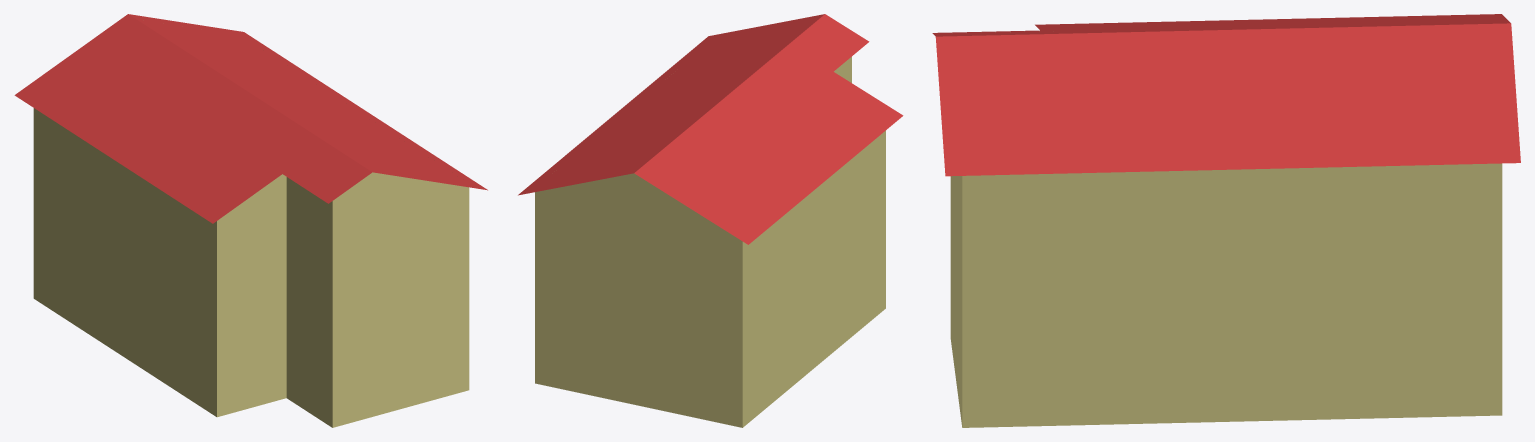
The picture shows the model from 3 angles, left to right: view 1: azimuth 30°, elevation 25°; view 2: azimuth 150°, elevation 25°; view 3: azimuth 270°, elevation 25°; orthographic projection. The views are drawn at different scales.
Bounding box in the file's own units: 10.77 × 16.51 × 10.02.
